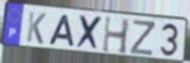3: (158, 22, 181, 59)
A: (47, 14, 76, 48)
H: (100, 14, 132, 56)
K: (25, 10, 48, 46)
X: (76, 14, 105, 52)
Z: (129, 19, 156, 57)
